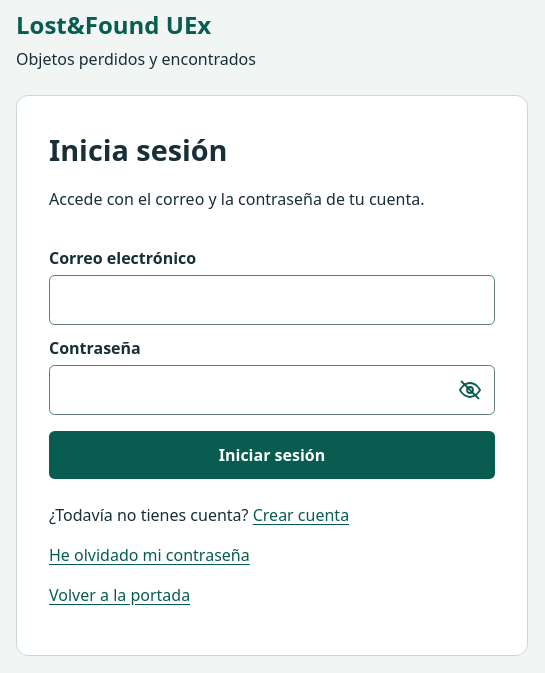
Test case: muestra y oculta la contraseña sin enviarla
Type "TEST@example.com" into the field labelled "Correo electrónico". click: (272, 300)
box: [49,275,495,325]
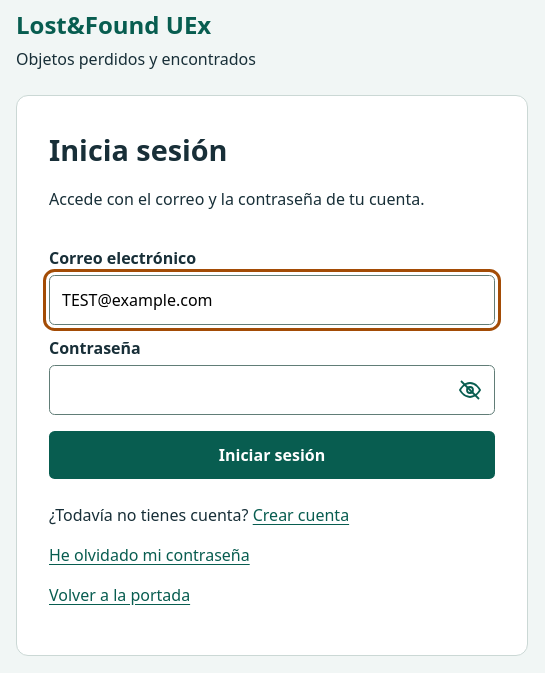
Type "Prueba1234" into the password field labelled "Contraseña". click: (272, 390)
box: [49,365,495,415]
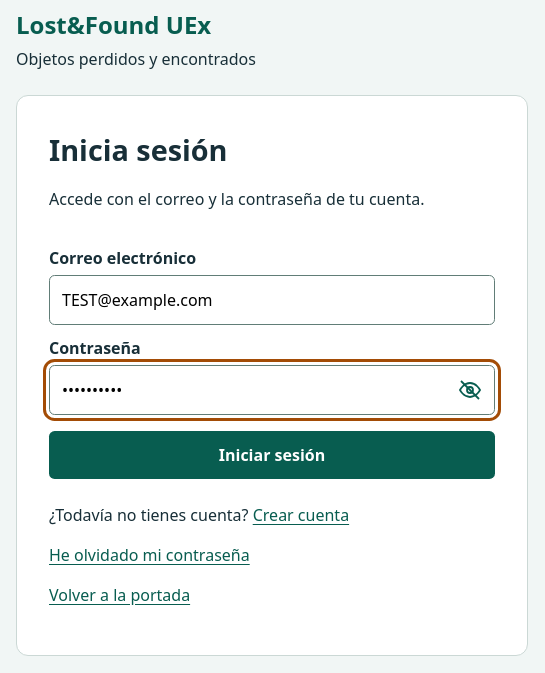
Click the button named "Mostrar contraseña". click: (470, 390)
box: [448,368,492,412]
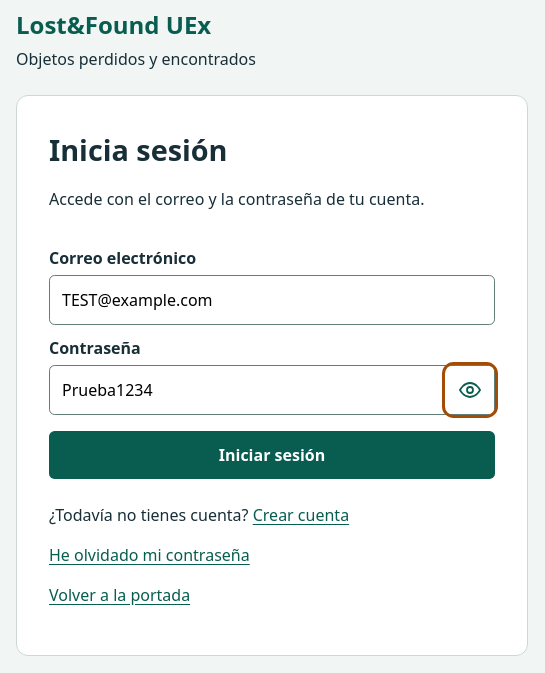
Now the field labelled "Contraseña" shows its text, box [49,365,495,415]
Click the button named "Ocultar contraseña". click: (470, 390)
box: [448,368,492,412]
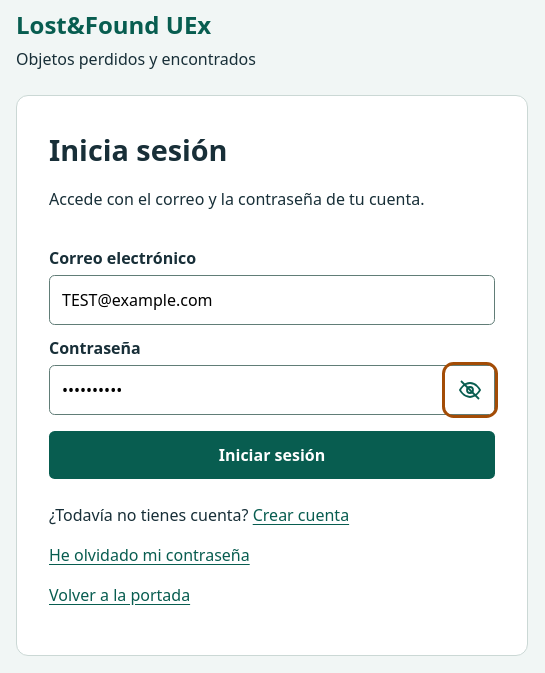
Now the password field labelled "Contraseña" hides its text, box [49,365,495,415]
